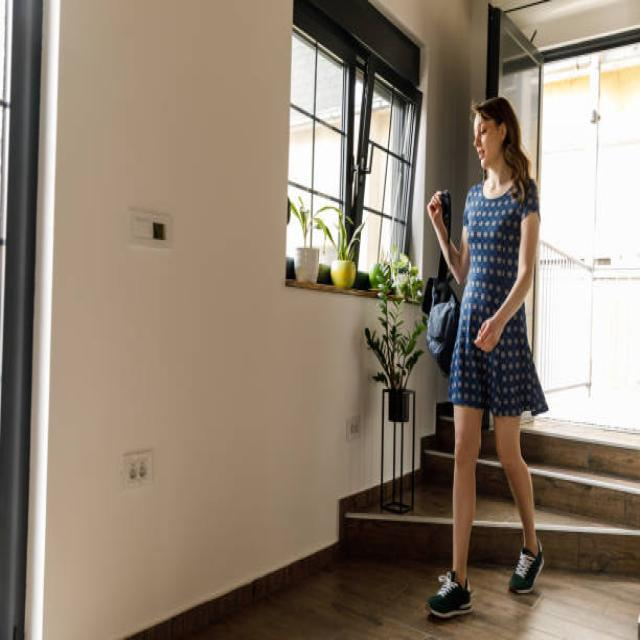Real human 2: (416, 84, 570, 632)
